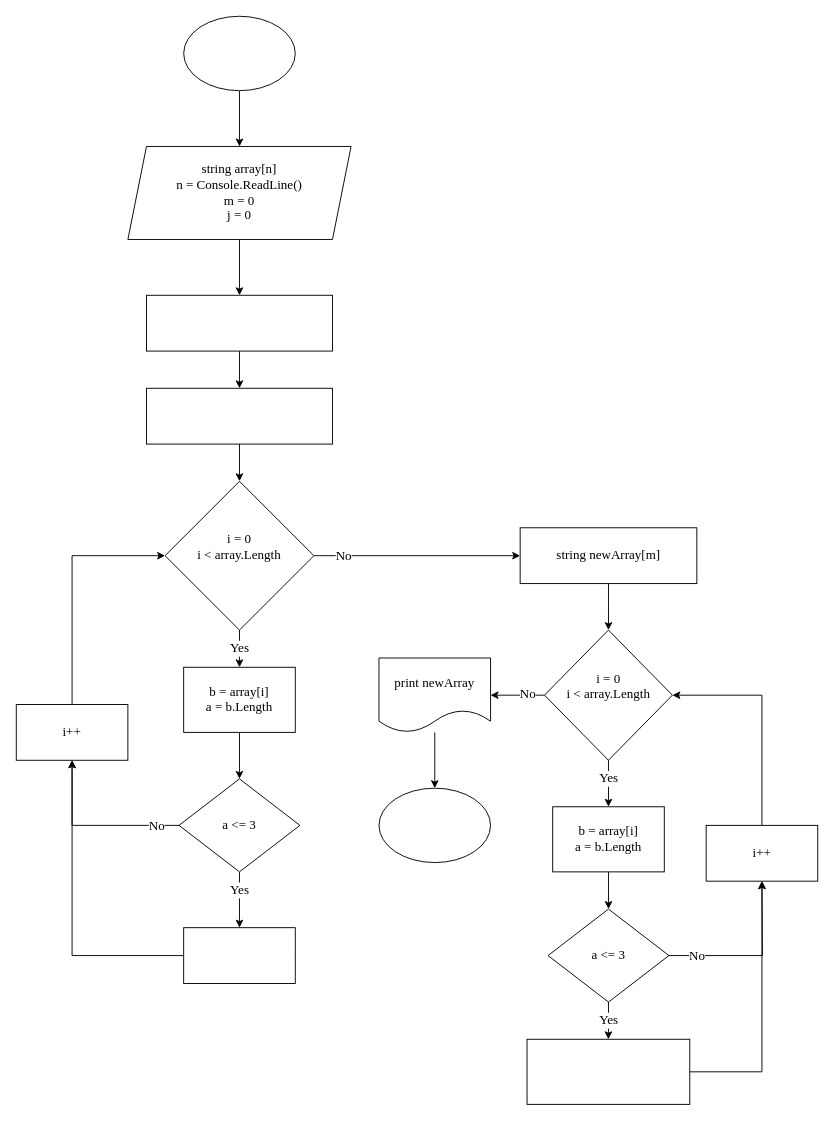
This 834x1121 diagram has some shape labels left out. The shapes that lost their labels are listed below. From the top down, each one's centre as x and y in pixels, then its label:
the point at 239,53: Start
the point at 239,322: Задать и заполнить исходный массив array[n]
the point at 239,415: Найти кол-во элементов исходного массива, которые <= 3
the point at 434,825: End
the point at 239,955: m++
the point at 608,1071: newArray[j] = array[i] j++
